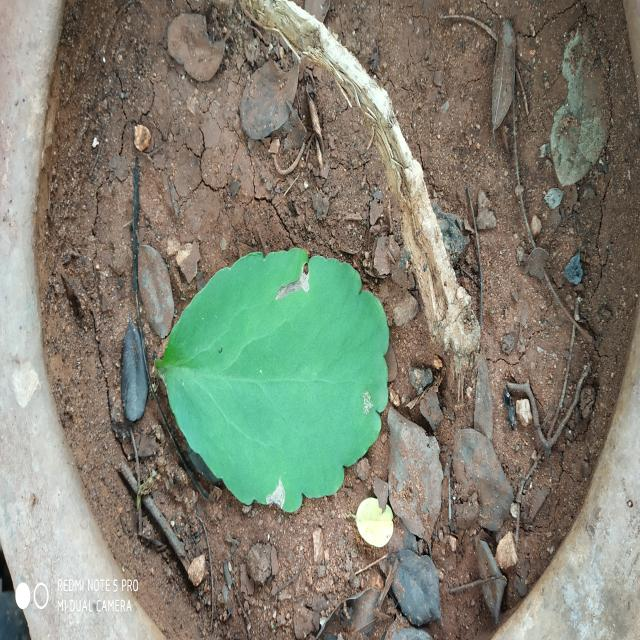defectedspinach: (275, 262, 309, 300), (360, 384, 388, 418), (266, 480, 285, 509)
spinach: (156, 249, 389, 511)
